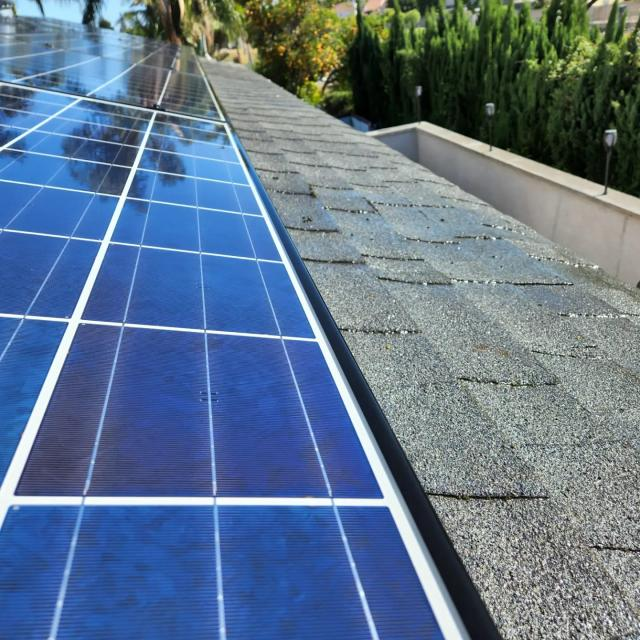clean-solar-panel: (0, 20, 496, 640)
